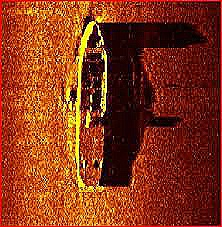ship: (75, 19, 108, 192)
